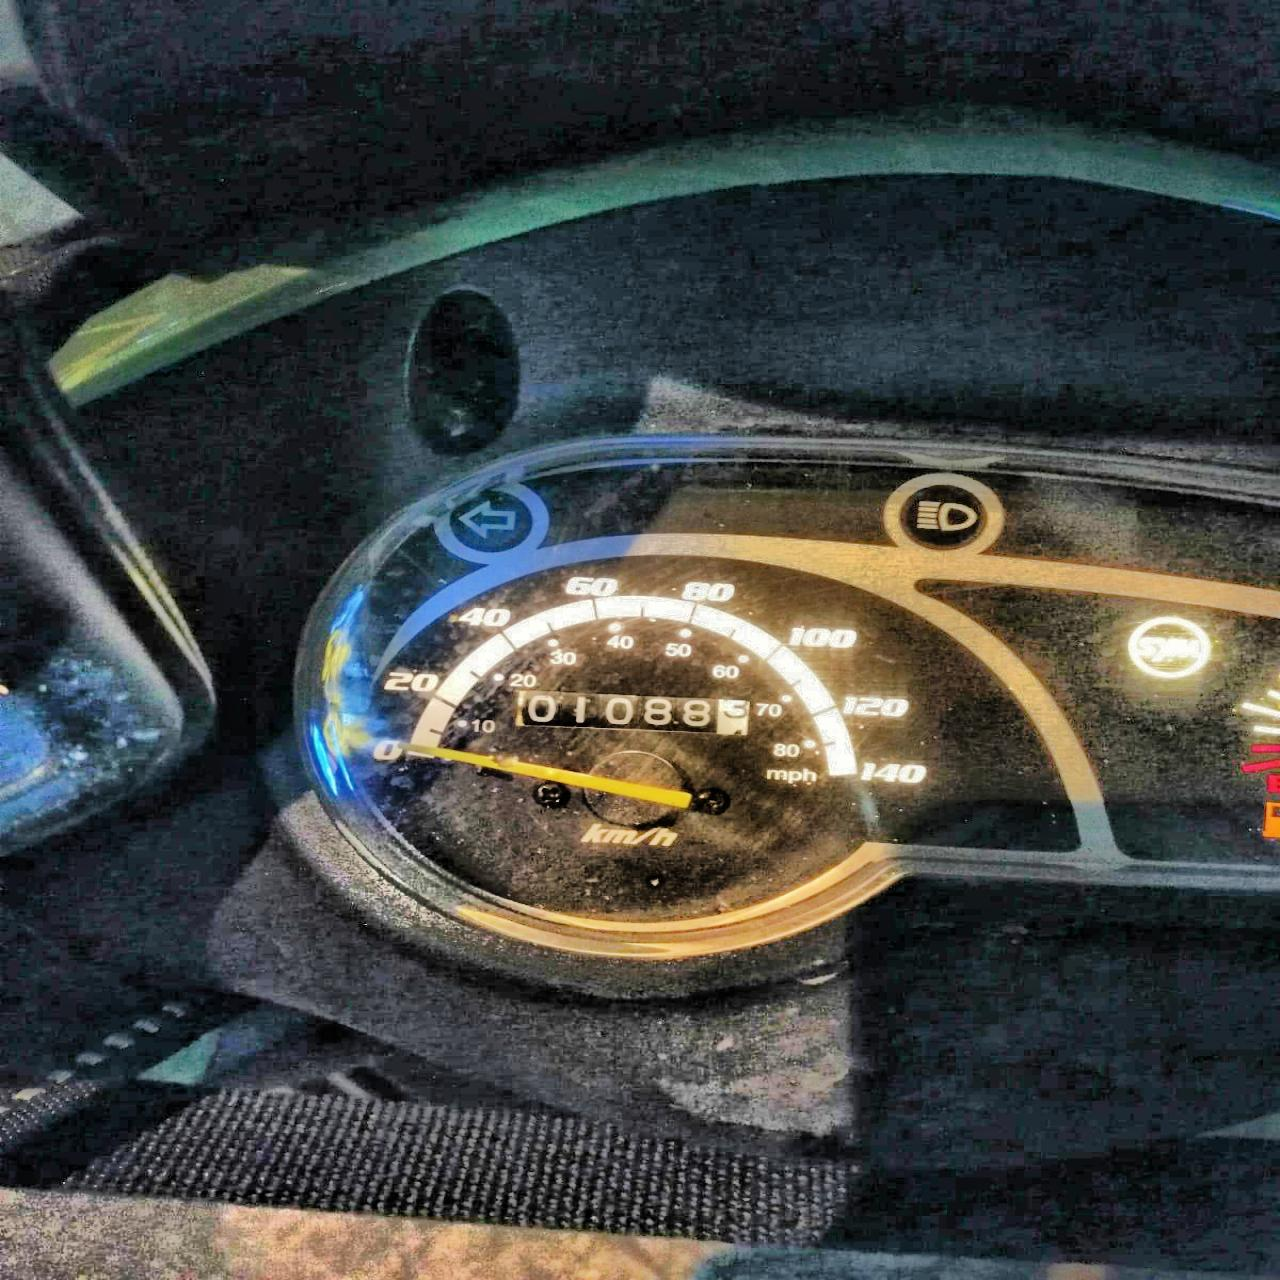0: (602, 697, 633, 724), (527, 694, 556, 722)
1: (573, 695, 585, 723)
3: (722, 696, 748, 719)
8: (681, 699, 710, 726), (642, 697, 670, 724)
odometer: (511, 687, 753, 737)
